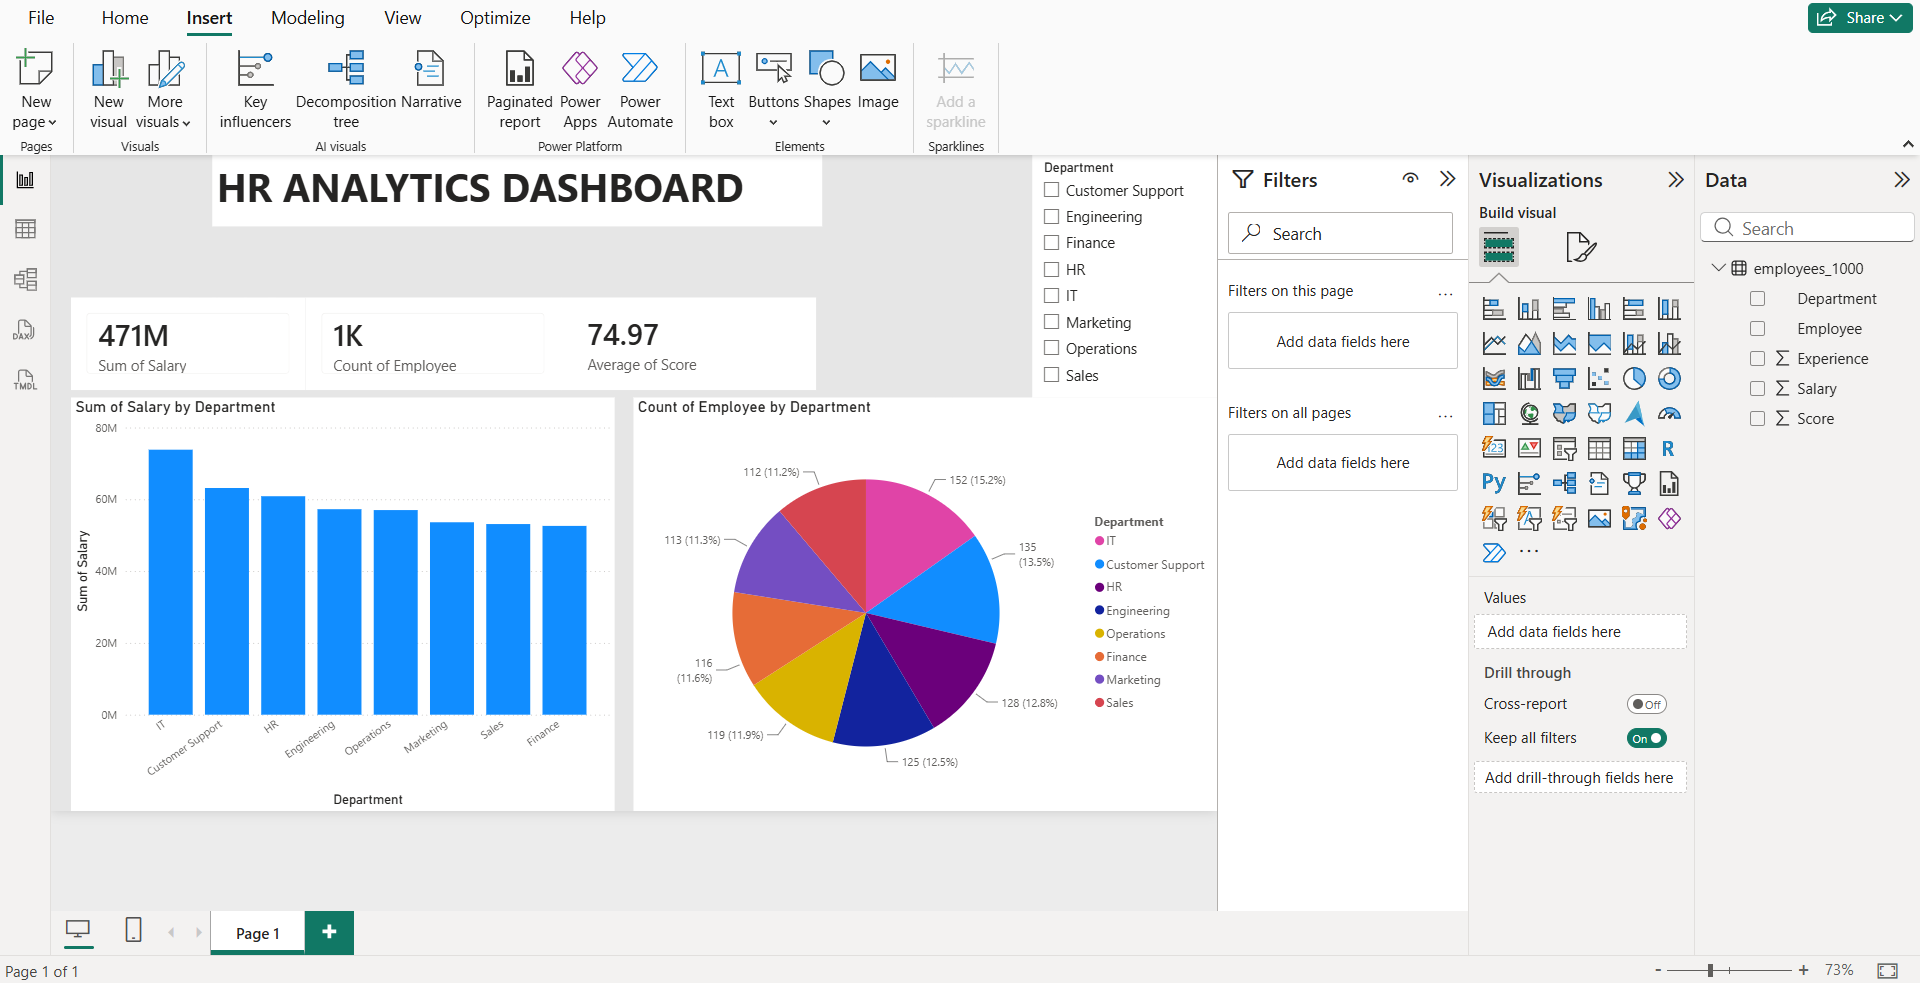

What the dashboard file says about the page in this screenshot:
{"tool":"powerbi","page":{"name":"Page 1","canvas":[1280,720],"ordinal":0},"visuals":[{"type":"cardVisual","fields":{"Data":["Sum(employees_1000.Salary)"]},"box":[22,156.4,258,101.5],"z":0},{"type":"cardVisual","fields":{"Data":["CountNonNull(employees_1000.Employee)"]},"box":[279.9,156.4,279.9,101.5],"z":1000},{"type":"cardVisual","fields":{"Data":["Avg(employees_1000.Score)"]},"box":[559.9,156.4,279.9,101.5],"z":2000},{"type":"clusteredColumnChart","fields":{"Category":["employees_1000.Department"],"Y":["Sum(employees_1000.Salary)"]},"box":[22,266.2,596.9,454.2],"z":3000},{"type":"pieChart","fields":{"Category":["employees_1000.Department"],"Y":["CountNonNull(employees_1000.Employee)"]},"box":[639.5,266.2,640.8,454.2],"z":4000},{"type":"textbox","box":[177,0,669.6,78.2],"z":5000},{"type":"slicer","fields":{"Values":["employees_1000.Department"]},"box":[1077.2,0,203.1,266.2],"z":6000}]}

Visuals, with their boxes on the page's 1280x720 design canvas (x1, y1, x2, y2). These are canvas units, not pixel positions in the 1920x983 screenshot, which may show the page scaled, cropped or inside an application window:
cardVisual - Sum(employees_1000.Salary): (22, 156, 280, 258)
cardVisual - CountNonNull(employees_1000.Employee): (280, 156, 560, 258)
cardVisual - Avg(employees_1000.Score): (560, 156, 840, 258)
clusteredColumnChart - employees_1000.Department x Sum(employees_1000.Salary): (22, 266, 619, 720)
pieChart - employees_1000.Department x CountNonNull(employees_1000.Employee): (640, 266, 1280, 720)
textbox: (177, 0, 847, 78)
slicer - employees_1000.Department: (1077, 0, 1280, 266)
